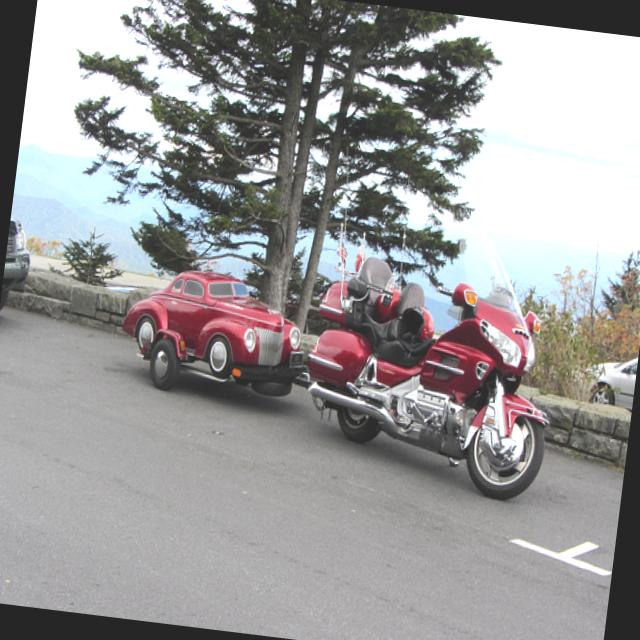Vehicle: (292, 212, 573, 506), (111, 266, 322, 404), (576, 336, 640, 411), (0, 209, 39, 315)
